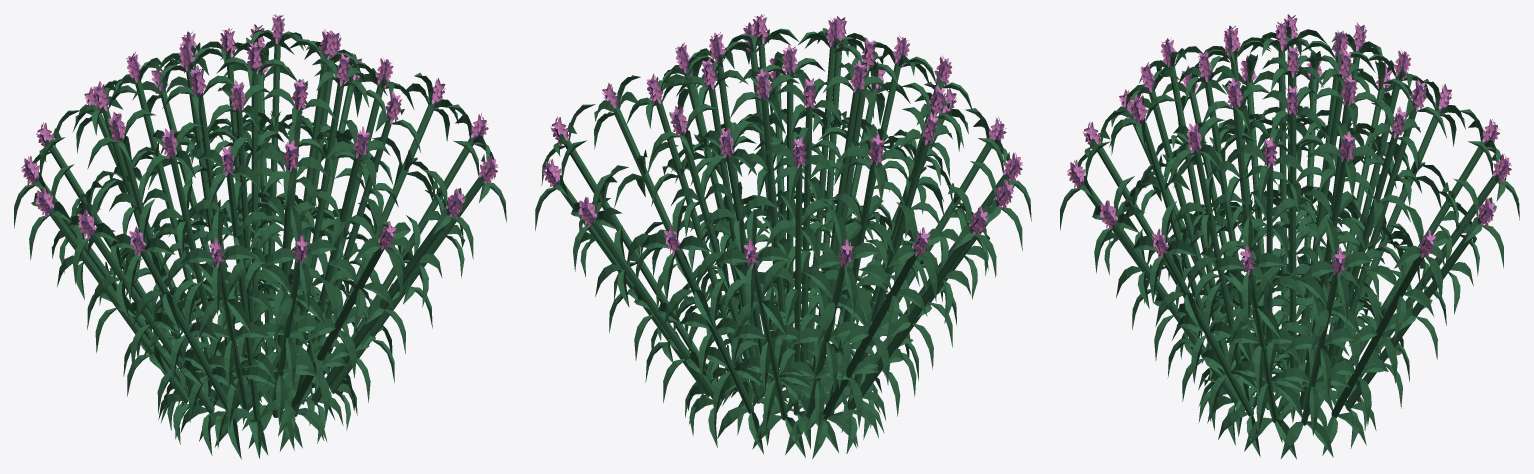
File: mod_vg_thym.fbx
3 renders of one model, left to right at view 1: azimuth 30°, elevation 25°; view 2: azimuth 150°, elevation 25°; view 3: azimuth 270°, elevation 25°, orthographic. The views are drawn at different scales.
Visible parts, largest first — view 1: Tige; view 2: Tige; view 3: Tige.
Part boxes in pixels (x1,y1,x2,y2): Tige: [14, 29, 506, 459]; Tige: [535, 28, 1031, 459]; Tige: [1060, 26, 1519, 459].
Bounding box in the file's own units: 57.51 × 47.56 × 53.52.
